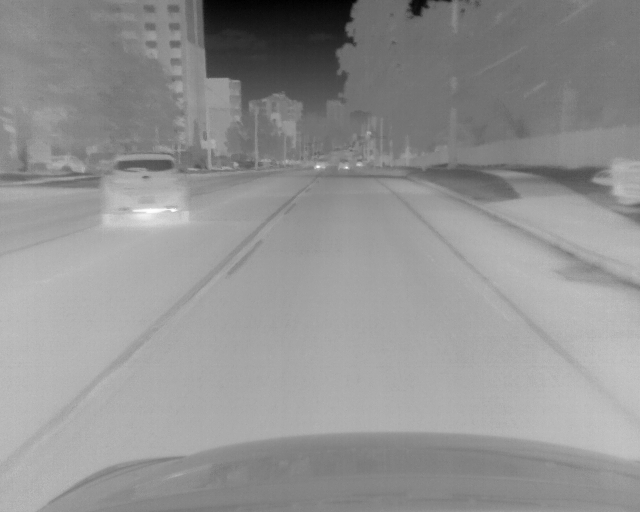car: (99, 153, 190, 229), (337, 159, 349, 171), (312, 161, 324, 170), (355, 157, 364, 167)
